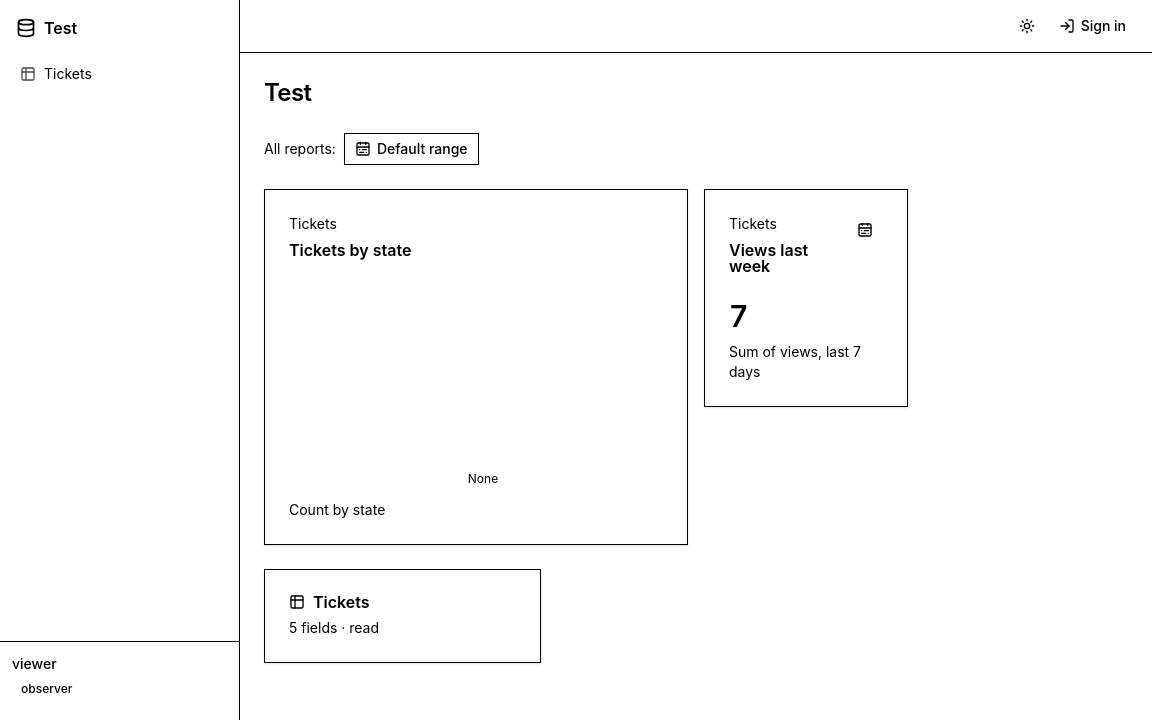
Test: the reports on the home screen › let the viewer pick the window of every report with a range, and keep the choice
The image size is (1152, 720).
Expected: the element "Views last week" shows "Sum of views, last 7 days", [729, 343, 861, 380]
Click the button with aria-label "Report range": click(411, 149) [344, 133, 478, 165]
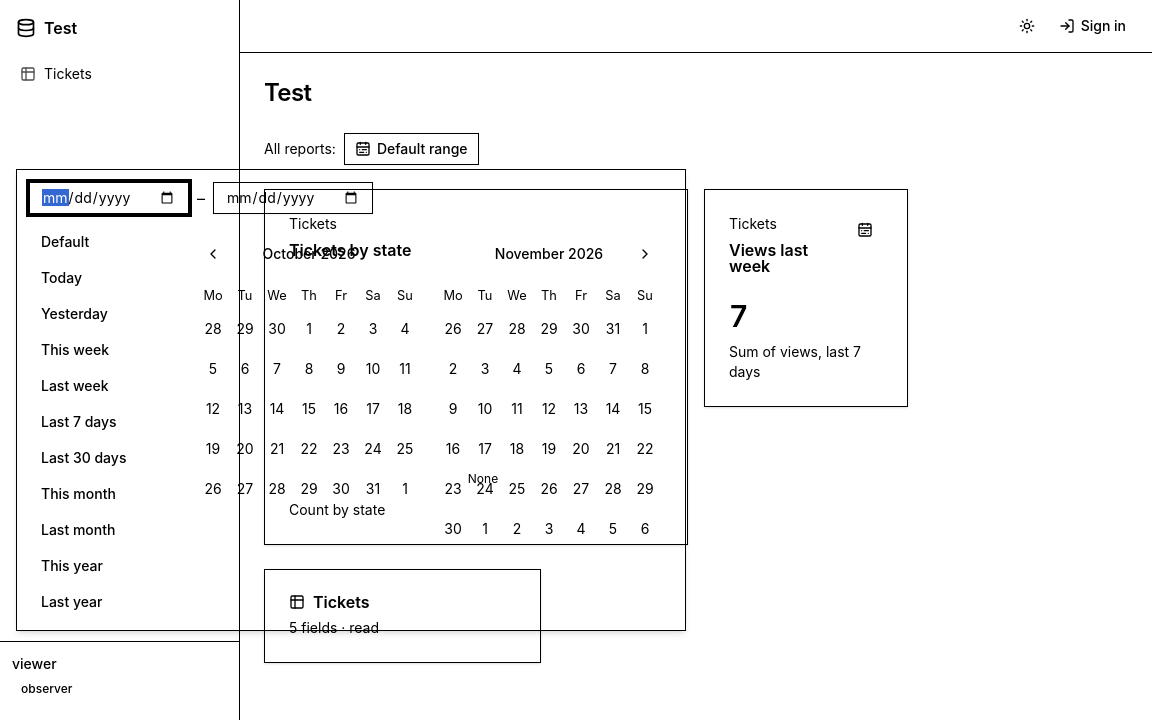
Click the button "Last 30 days": click(101, 458) [29, 442, 173, 474]
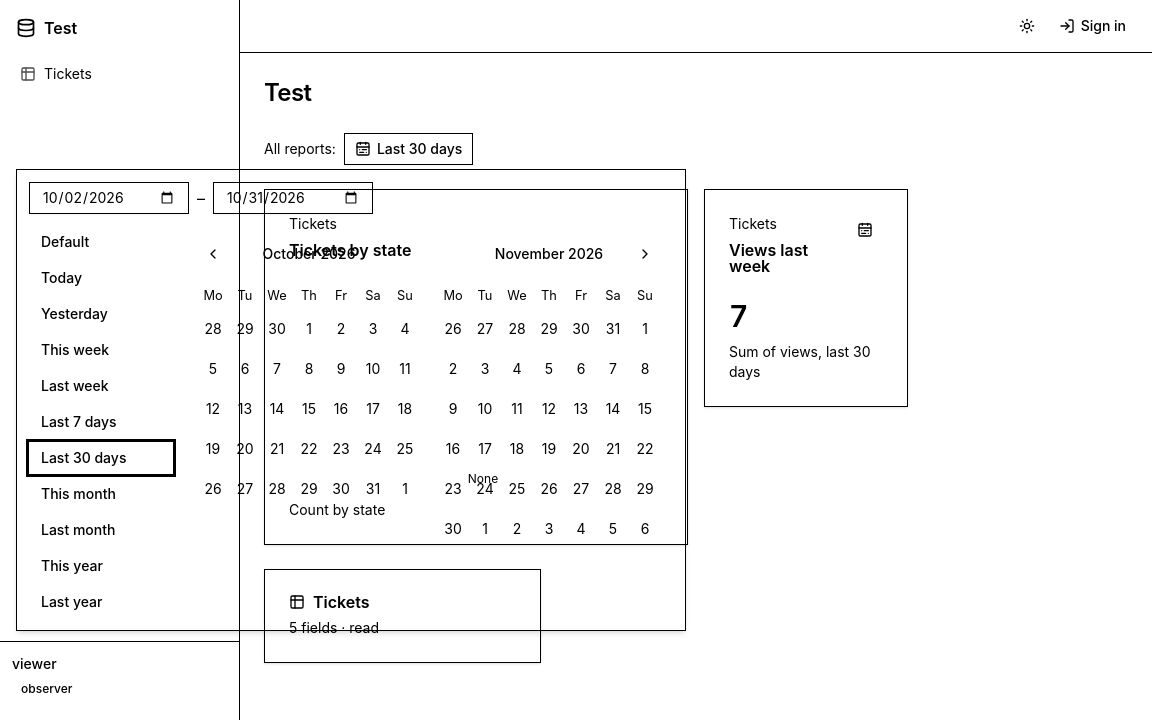
Expected: the element "Views last week" shows "Sum of views, last 30 days", [729, 343, 871, 380]
Click the button "Last month": click(101, 530) [29, 514, 173, 546]
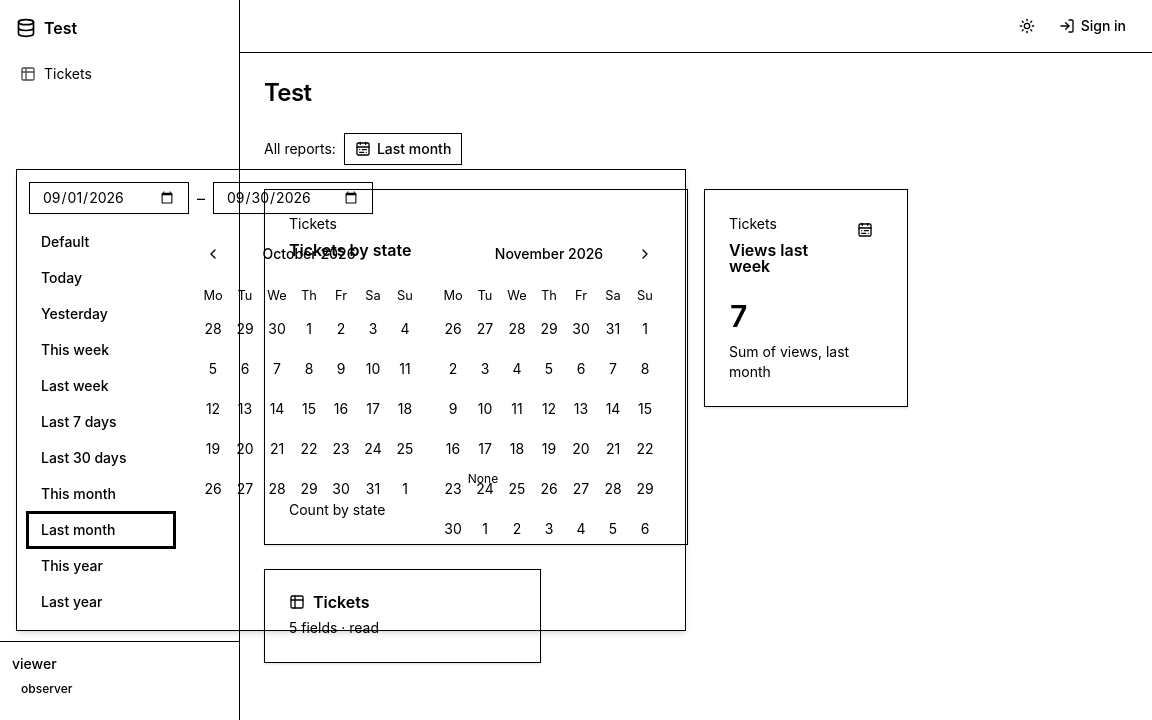
Expected: the element showing "Tickets Views last week 7 Sum of views, last month" is shown, [704, 189, 908, 407]
Click the button "Default": click(101, 242) [29, 226, 173, 258]
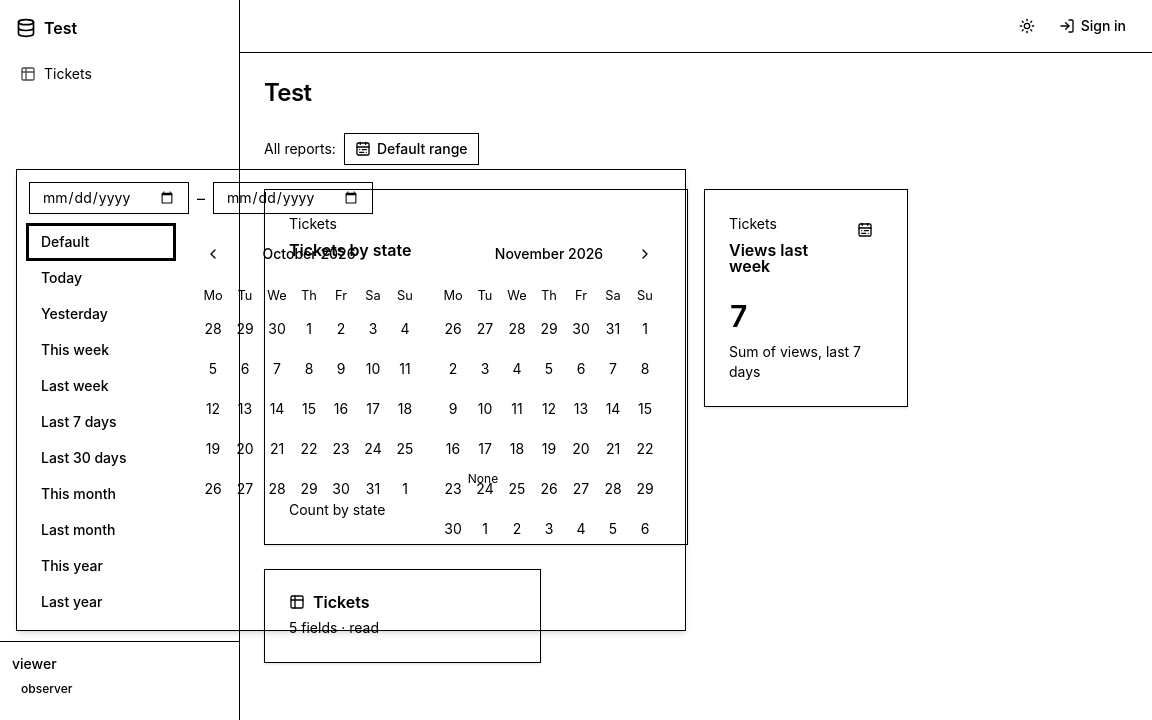
Expected: the element showing "Tickets Views last week 7 Sum of views, last 7 days" is shown, [704, 189, 908, 407]
